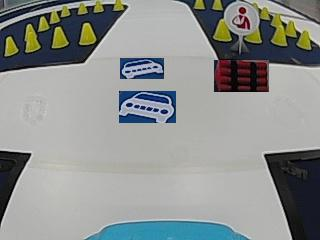cone: (24, 25, 40, 50), (213, 19, 231, 41), (79, 22, 96, 45), (51, 27, 69, 48), (272, 22, 287, 45), (297, 29, 311, 50), (4, 36, 18, 55), (246, 27, 261, 43), (38, 15, 50, 30), (49, 10, 60, 23), (93, 0, 104, 13), (112, 0, 124, 11), (77, 2, 88, 14), (259, 6, 269, 19), (193, 0, 205, 10), (211, 0, 223, 10), (60, 5, 70, 17)
patient: (230, 3, 259, 29)
